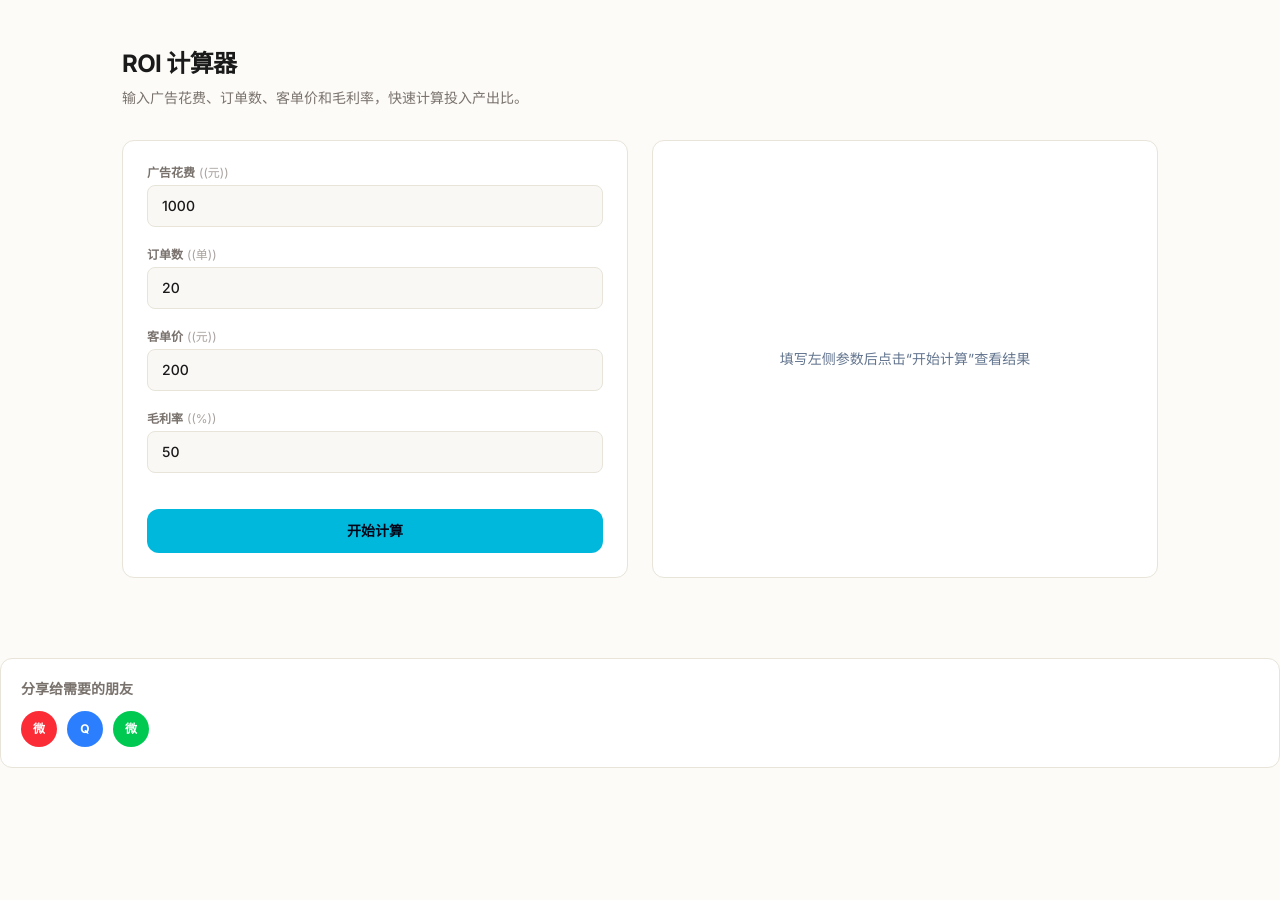
Test: RoiCalculatorPage › shows ROI and net profit after clicking calculate
Click the button "开始计算".
click(375, 531)  # box 147,509 -> 603,553
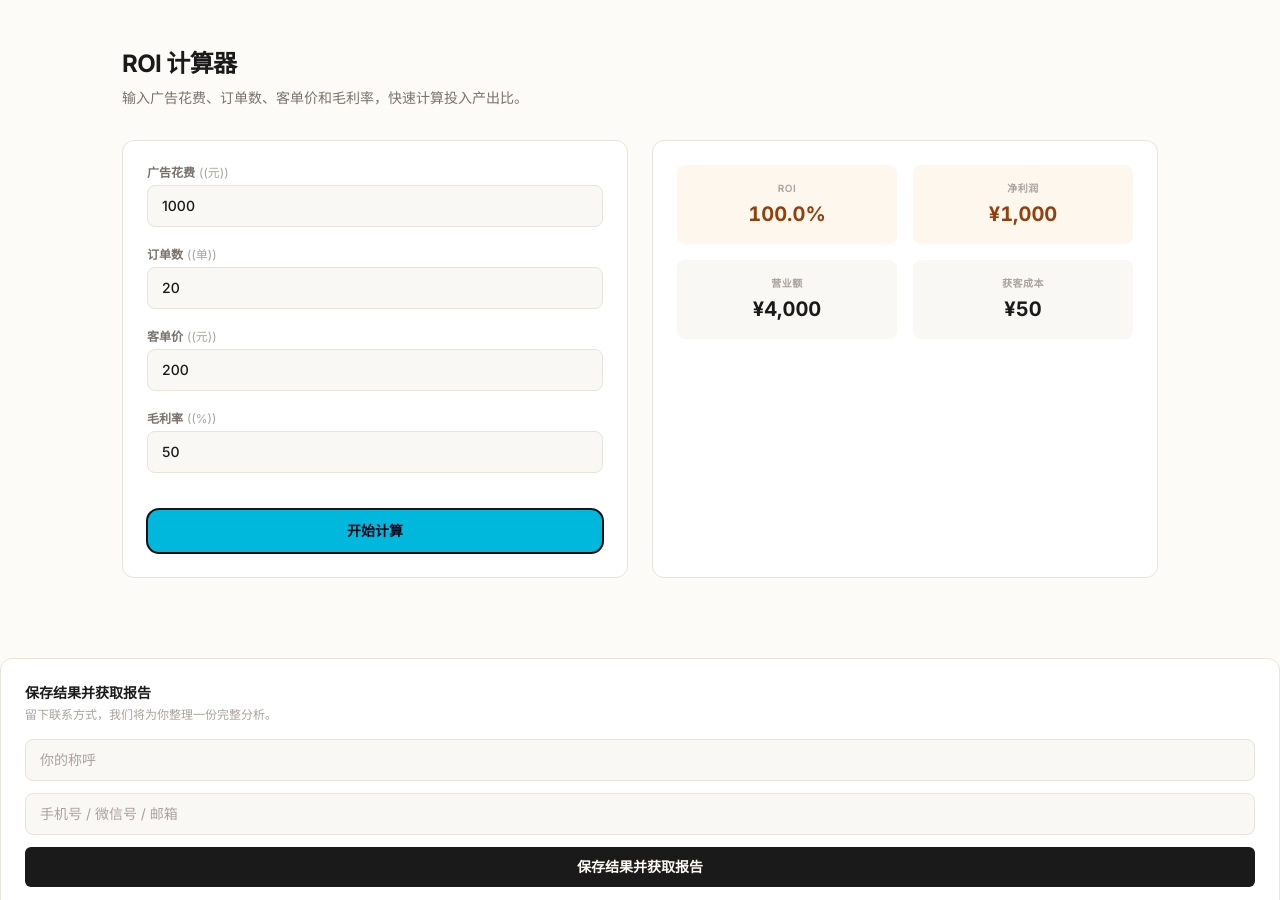
Expected: the text "100.0%" is shown, 748,202 -> 826,226
Expected: the text "净利润" is shown, 1007,182 -> 1039,194
Expected: the text "营业额" is shown, 771,277 -> 803,289
